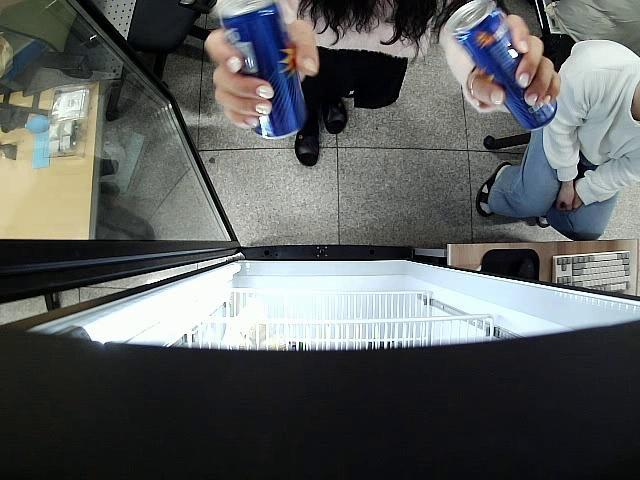16_hot6: (448, 0, 556, 131), (215, 0, 308, 141)
